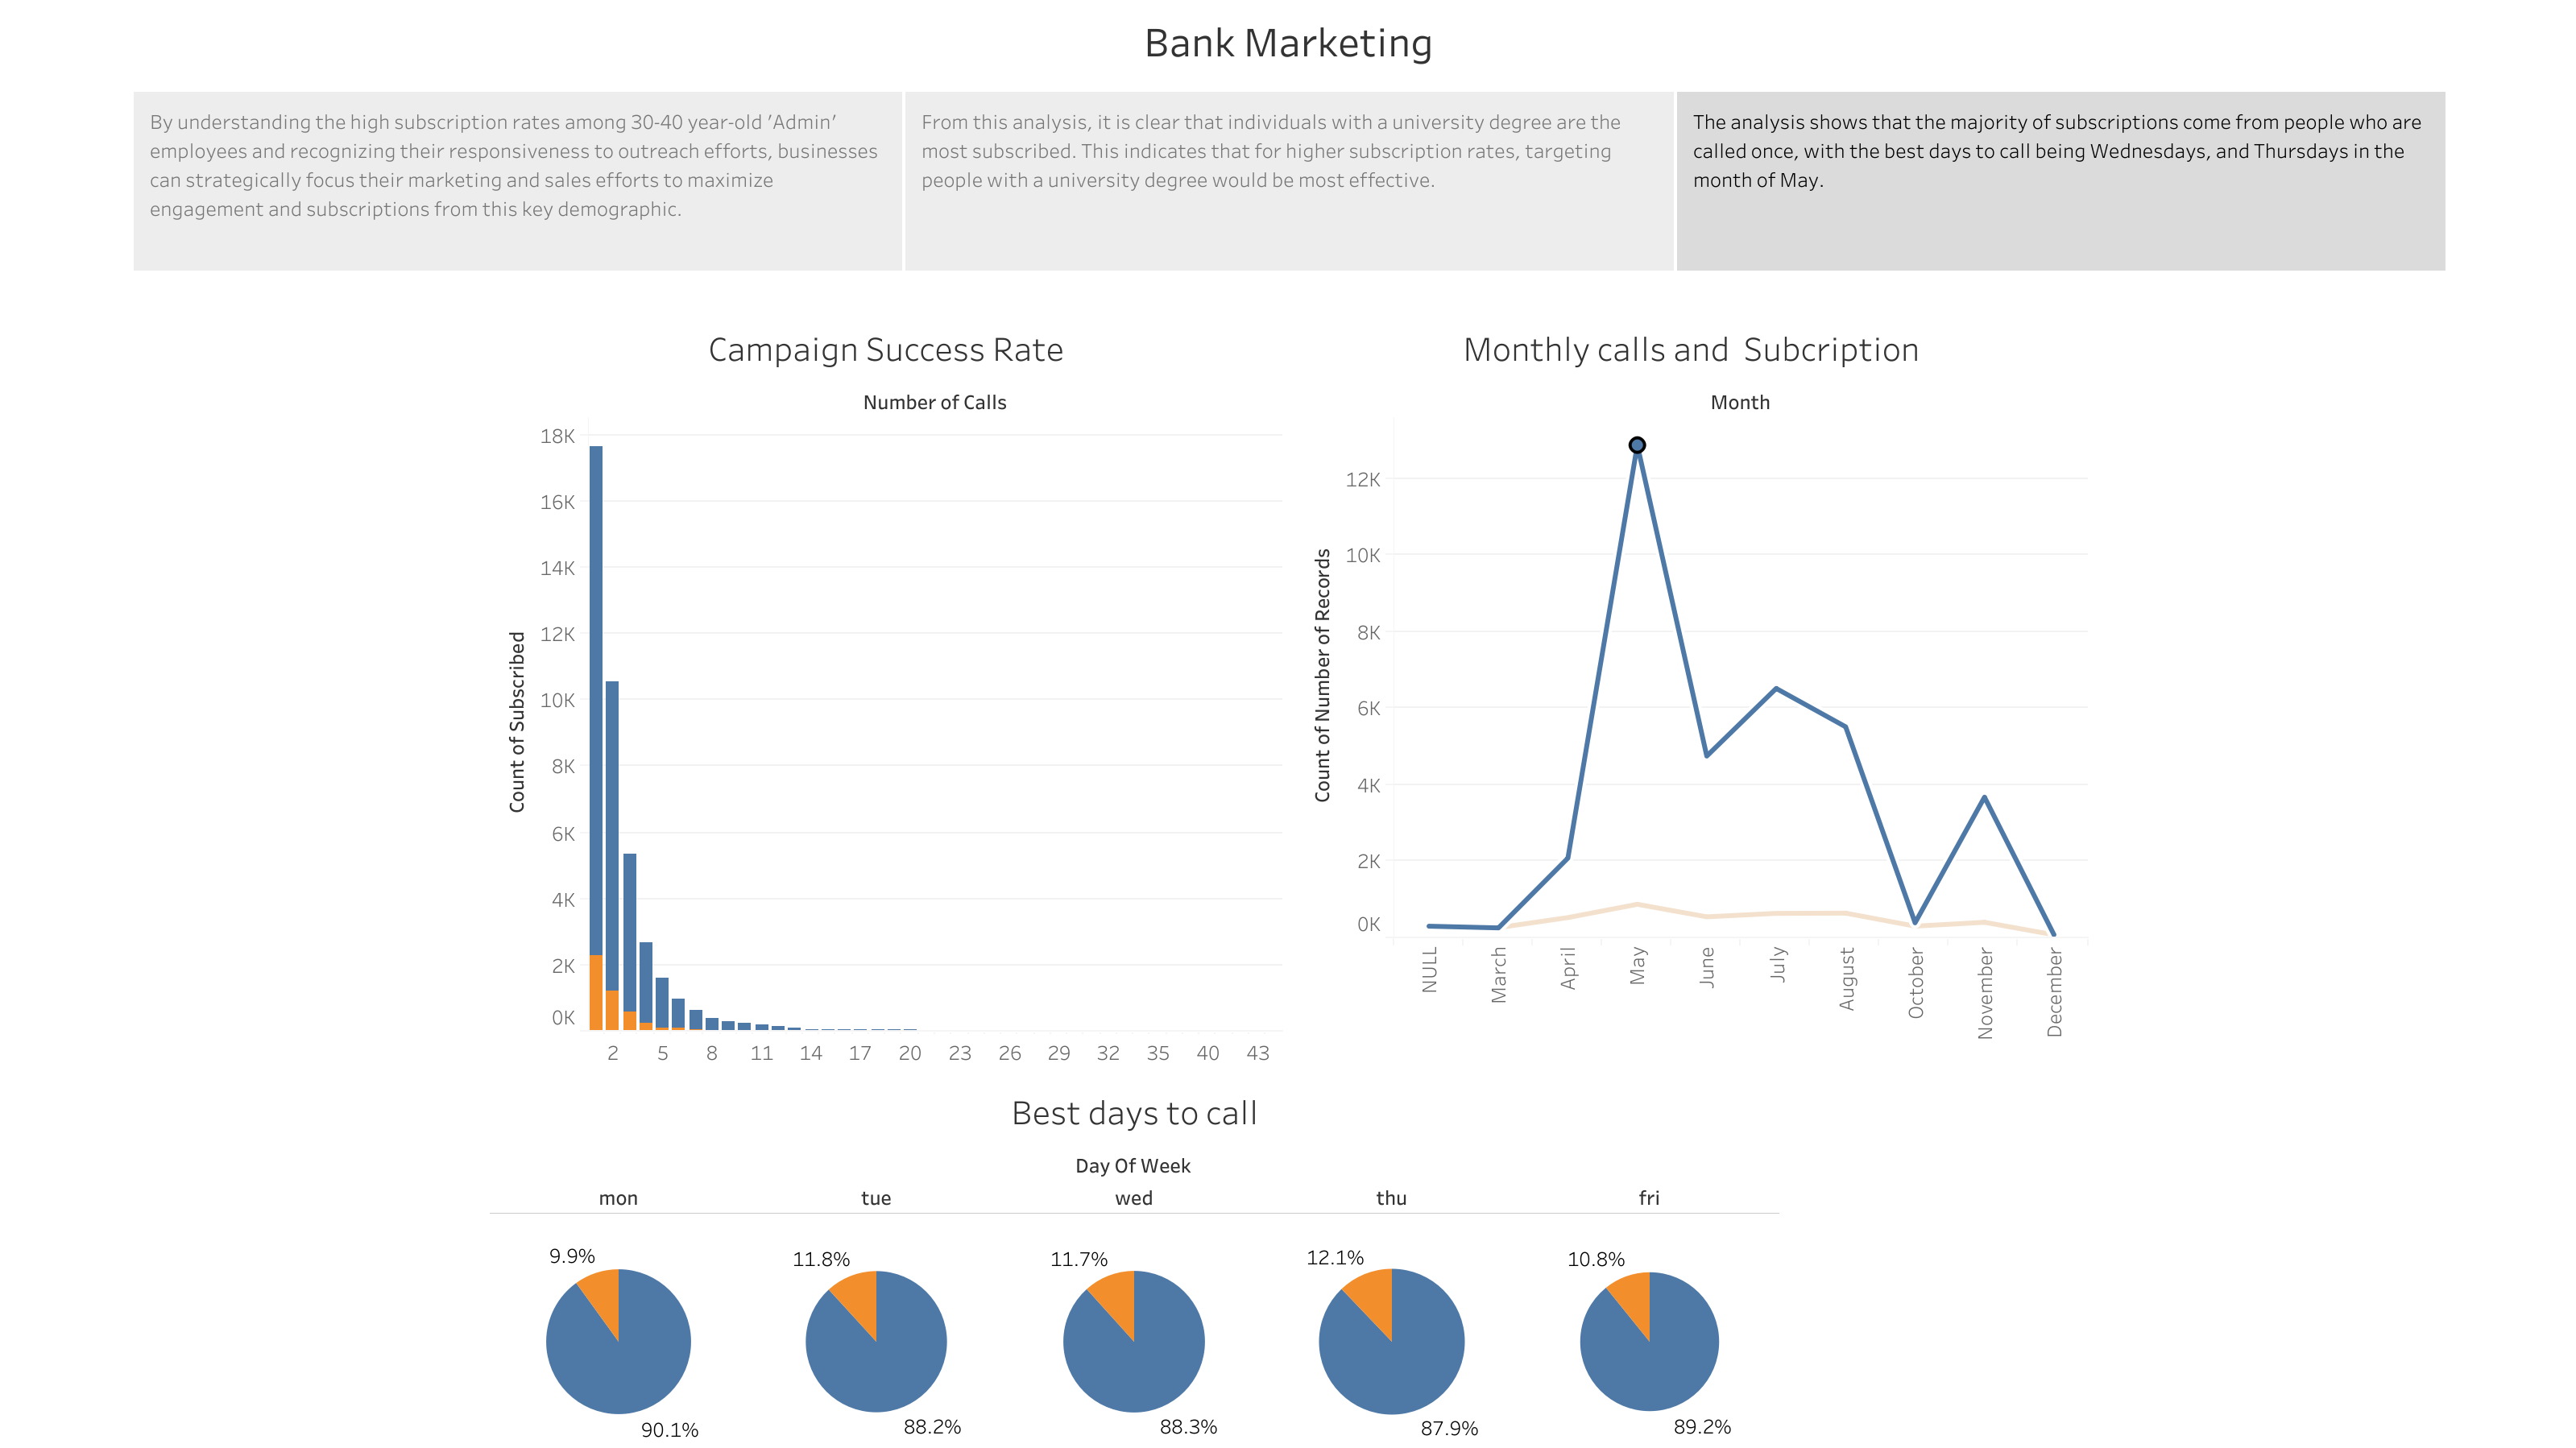

This screenshot's page, from the dashboard's own definition file:
{"tool":"tableau","page":{"name":"Calls Prosperity","canvas":[1016,964],"ordinal":1},"visuals":[{"type":"worksheet","title":"Campaign success rate","mark":"Automatic","rows":["y"],"cols":["Calculation_1775896022145646592"],"box":[8,8,500,474]},{"type":"worksheet","title":"Monthly calls","mark":"Automatic","rows":["bank_marketing.csv_6180585A280B49F6AC557D9C3BB4FAD4"],"cols":["month"],"box":[508,8,500,474]},{"type":"worksheet","title":"Weekdays to call","mark":"Pie","cols":["day_of_week"],"box":[8,482,1000,474]}]}

Visuals, with their boxes on the page's 1016x964 design canvas (x1, y1, x2, y2). These are canvas units, not pixel positions in the 2576x1448 screenshot, which may show the page scaled, cropped or inside an application window:
"Campaign success rate" worksheet: box=[8, 8, 508, 482]
"Monthly calls" worksheet: box=[508, 8, 1008, 482]
"Weekdays to call" worksheet (Pie marks): box=[8, 482, 1008, 956]
